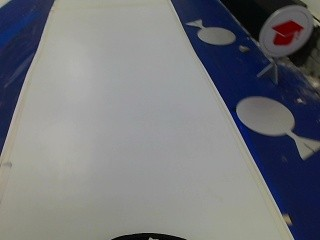school: (257, 3, 314, 62)
